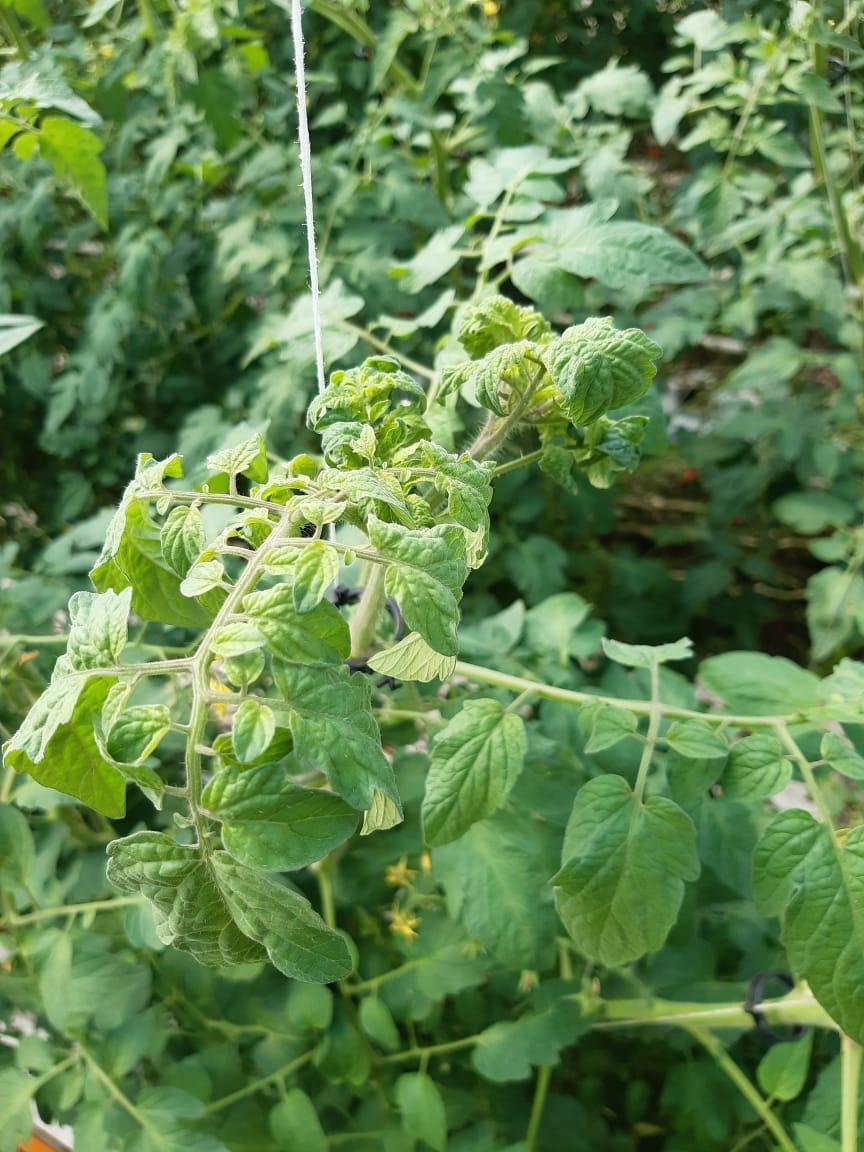Hoja: (550, 775, 700, 967), (753, 810, 863, 1043), (209, 852, 349, 984), (420, 700, 527, 846), (544, 315, 661, 426)
Hoja rugoso: (107, 832, 265, 968), (199, 764, 358, 872), (243, 583, 349, 664), (387, 565, 459, 655), (108, 704, 171, 763), (292, 540, 340, 613), (232, 700, 274, 763)
